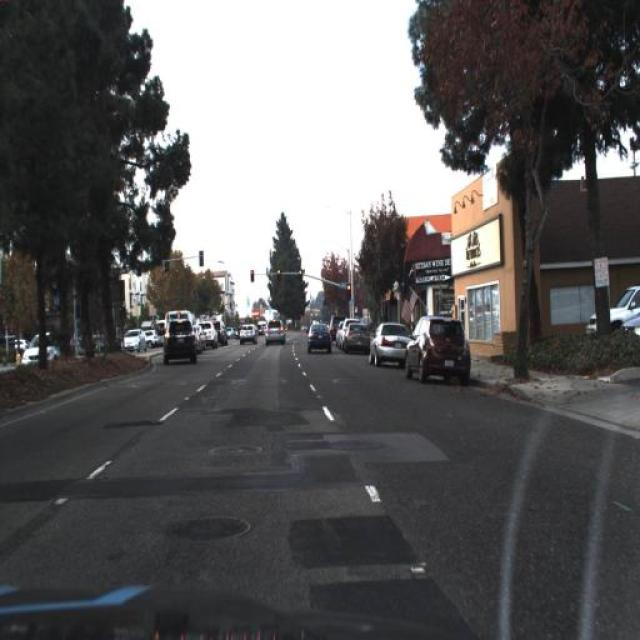car: (404, 313, 478, 387), (368, 314, 413, 371), (22, 331, 67, 373), (162, 315, 198, 365), (342, 316, 372, 356), (302, 317, 332, 355), (121, 323, 149, 353), (120, 329, 149, 356), (263, 317, 286, 348), (139, 321, 160, 353), (347, 324, 368, 356), (235, 319, 259, 346), (212, 318, 226, 350), (330, 316, 344, 344), (200, 322, 215, 347), (240, 325, 256, 343)
